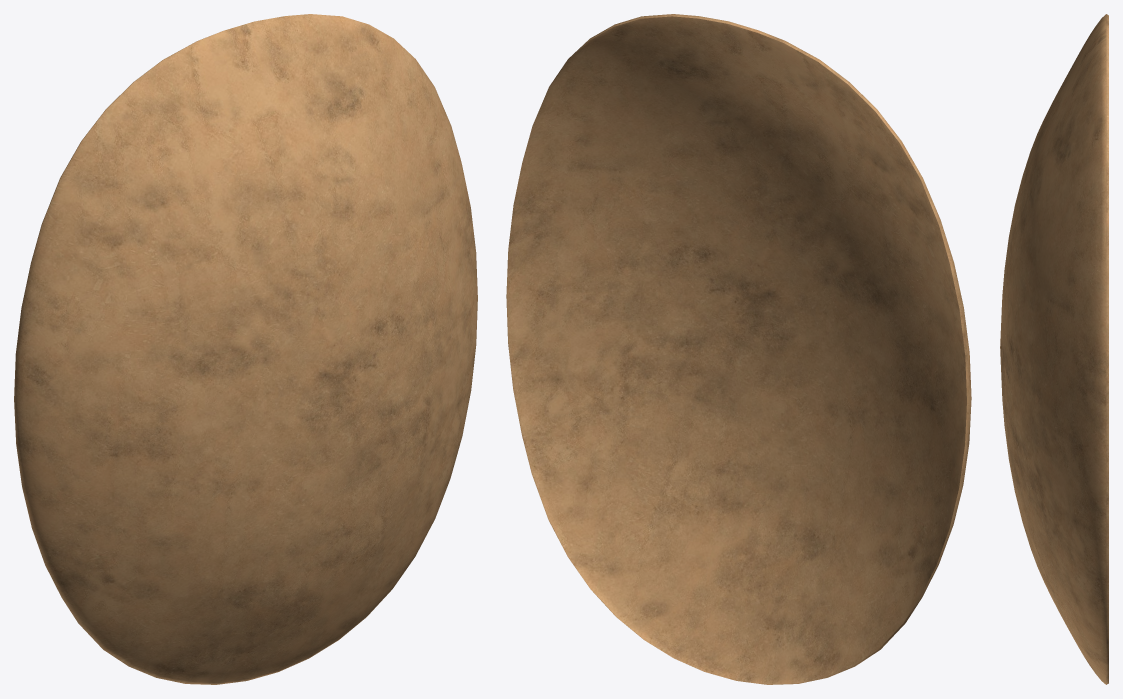
The model's file is Shield_B.fbx.
3 renders of one model, left to right at view 1: azimuth 30°, elevation 25°; view 2: azimuth 150°, elevation 25°; view 3: azimuth 270°, elevation 25°, orthographic. The views are drawn at different scales.
Parts seen in each view (by area): view 1: shield_B; view 2: shield_B; view 3: shield_B.
Part boxes in pixels (box(x1,y1,x2,y2)): shield_B: box(14, 14, 477, 684); shield_B: box(506, 14, 971, 684); shield_B: box(1000, 14, 1108, 684).
Size of the model in its own units: 66.34 by 90.12 by 14.26.
Materials: 1 (1 with a texture image).
